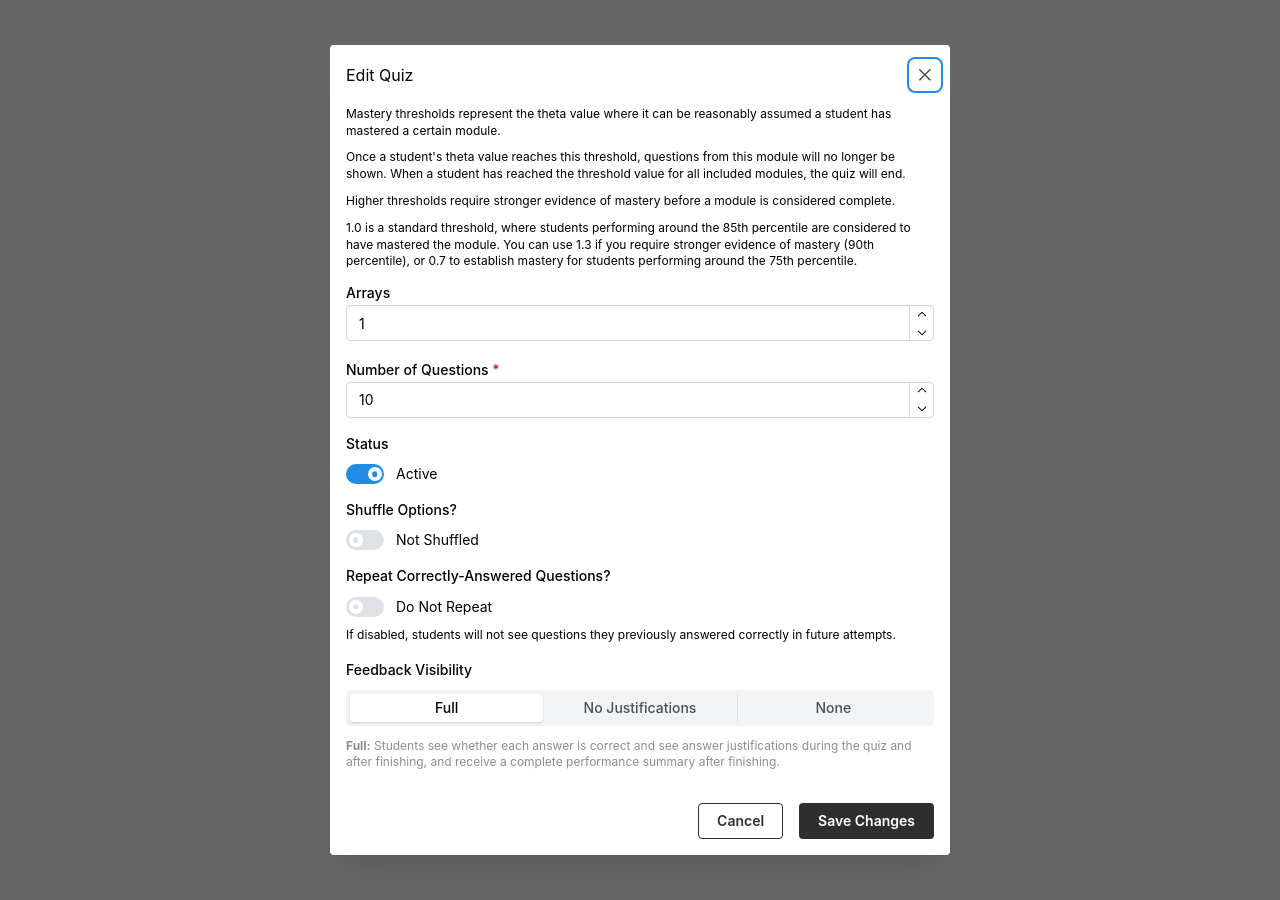
EditQuizModal › shows success alert after a successful PUT save
The image size is (1280, 900).
(page scrolled)
Click the button "Save Changes".
click(867, 821)  # box left=799, top=803, right=934, bottom=839
(page scrolled)
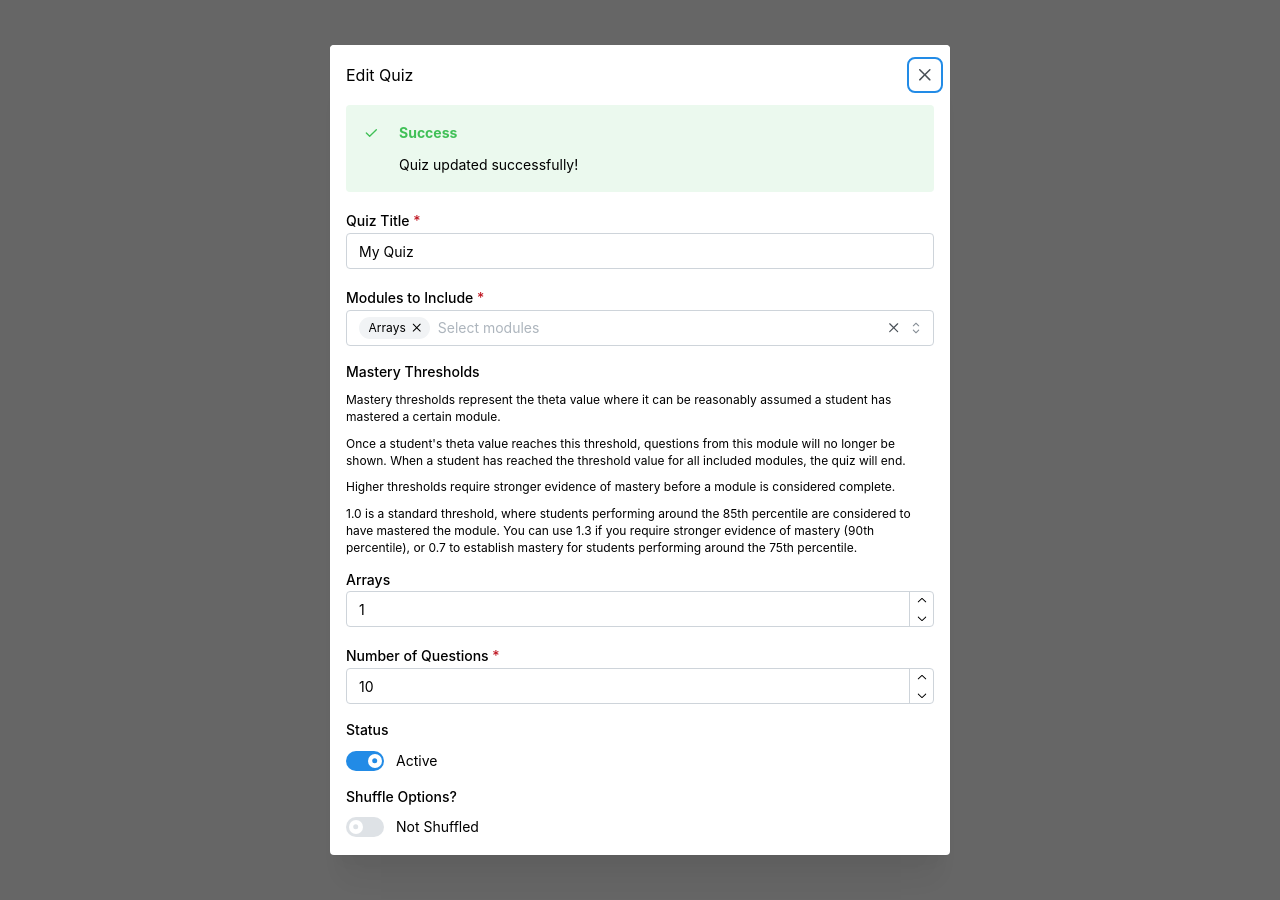
Result: the text "Quiz updated successfully!" is shown at left=399, top=156, right=578, bottom=173
